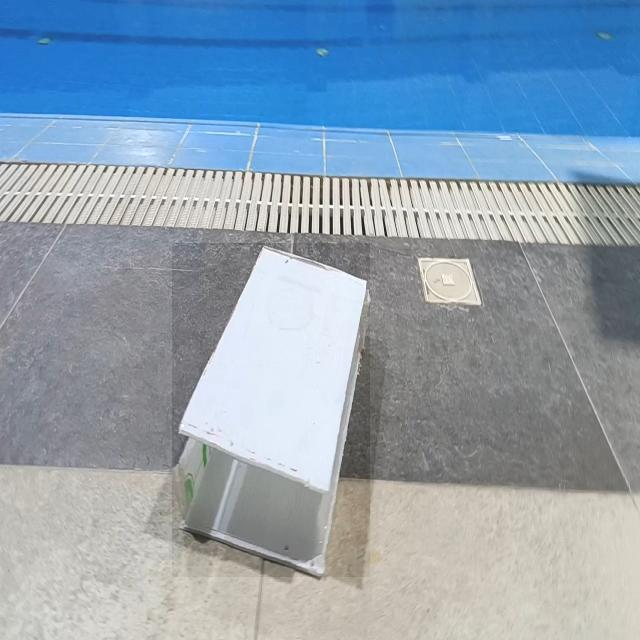Cuboid: (172, 243, 370, 577)
